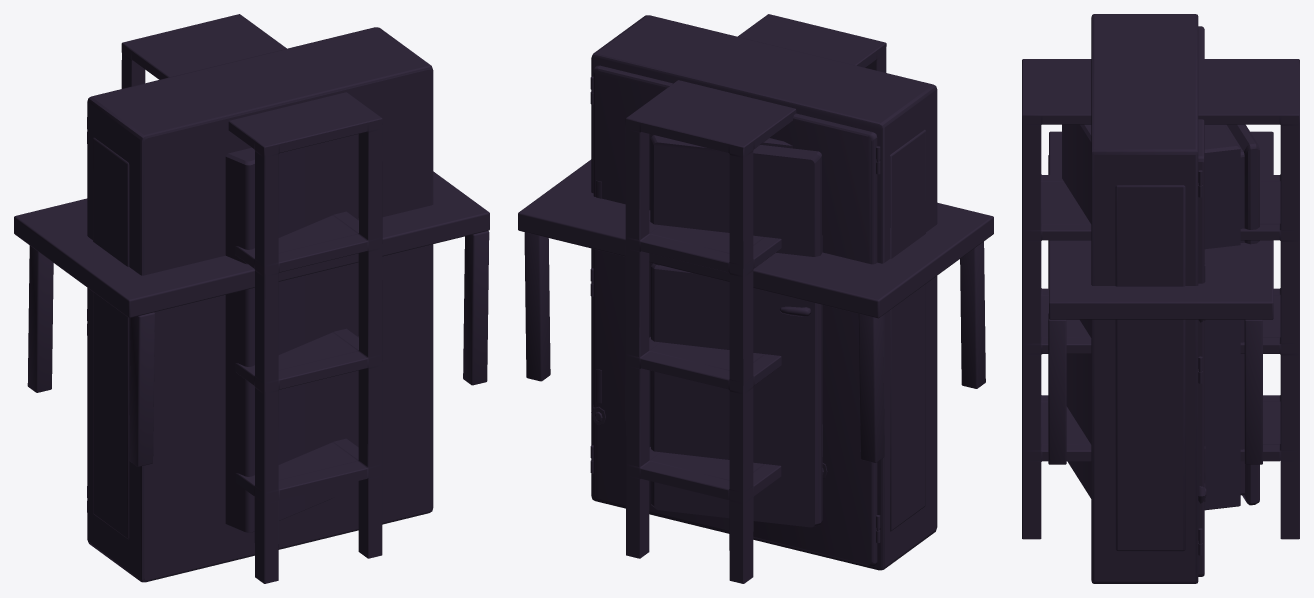
File: SomeFullAssets_CenteredPivot.FBX
3 views of the same model, side by side, from view 1: azimuth 30°, elevation 25°; view 2: azimuth 150°, elevation 25°; view 3: azimuth 270°, elevation 25° (orthographic). The views are drawn at different scales.
Parts seen in each view (by area): view 1: CLOSET, SHELF, TABLE, FRIDGE, Lockers097; view 2: CLOSET, SHELF, FRIDGE, TABLE, Lockers097; view 3: CLOSET, SHELF, Lockers097, FRIDGE, TABLE.
Boxes of the visible parts, box(x1,y1,x2,y2) form: CLOSET: box(87, 27, 433, 582); SHELF: box(121, 14, 382, 583); TABLE: box(14, 171, 489, 466); FRIDGE: box(225, 140, 334, 532); Lockers097: box(93, 137, 129, 539); CLOSET: box(590, 15, 937, 570); SHELF: box(625, 14, 886, 583); FRIDGE: box(650, 135, 822, 527); TABLE: box(518, 159, 993, 462); Lockers097: box(890, 129, 925, 531); CLOSET: box(1091, 14, 1204, 583); SHELF: box(1022, 59, 1299, 539); Lockers097: box(1115, 185, 1185, 551); FRIDGE: box(1062, 124, 1259, 510); TABLE: box(1048, 131, 1273, 464).
Size of the model in its own units: 77.9 by 92.12 by 53.4.
